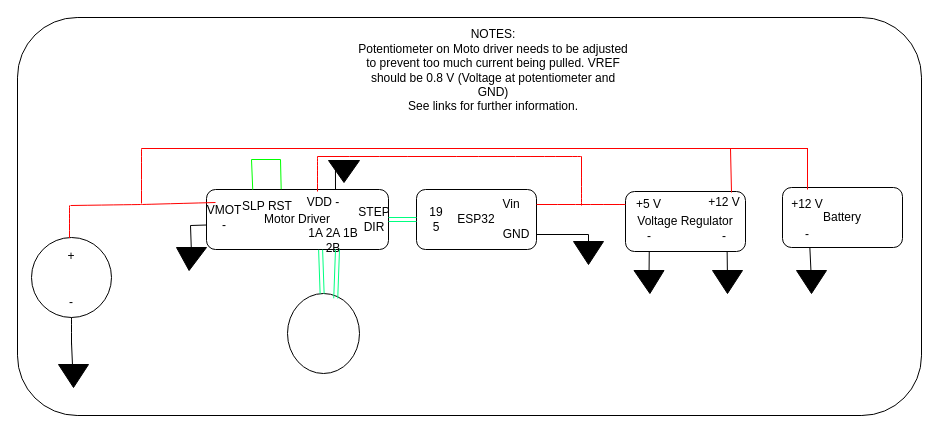
Some shapes in this 939 by 433 pixel diagram are drawn without their labels. The box of each missing label's shape, as (x1, y1, x2, y2) in pixels:
Capacitor: (30, 236, 112, 318)
Motor: (286, 292, 360, 374)
